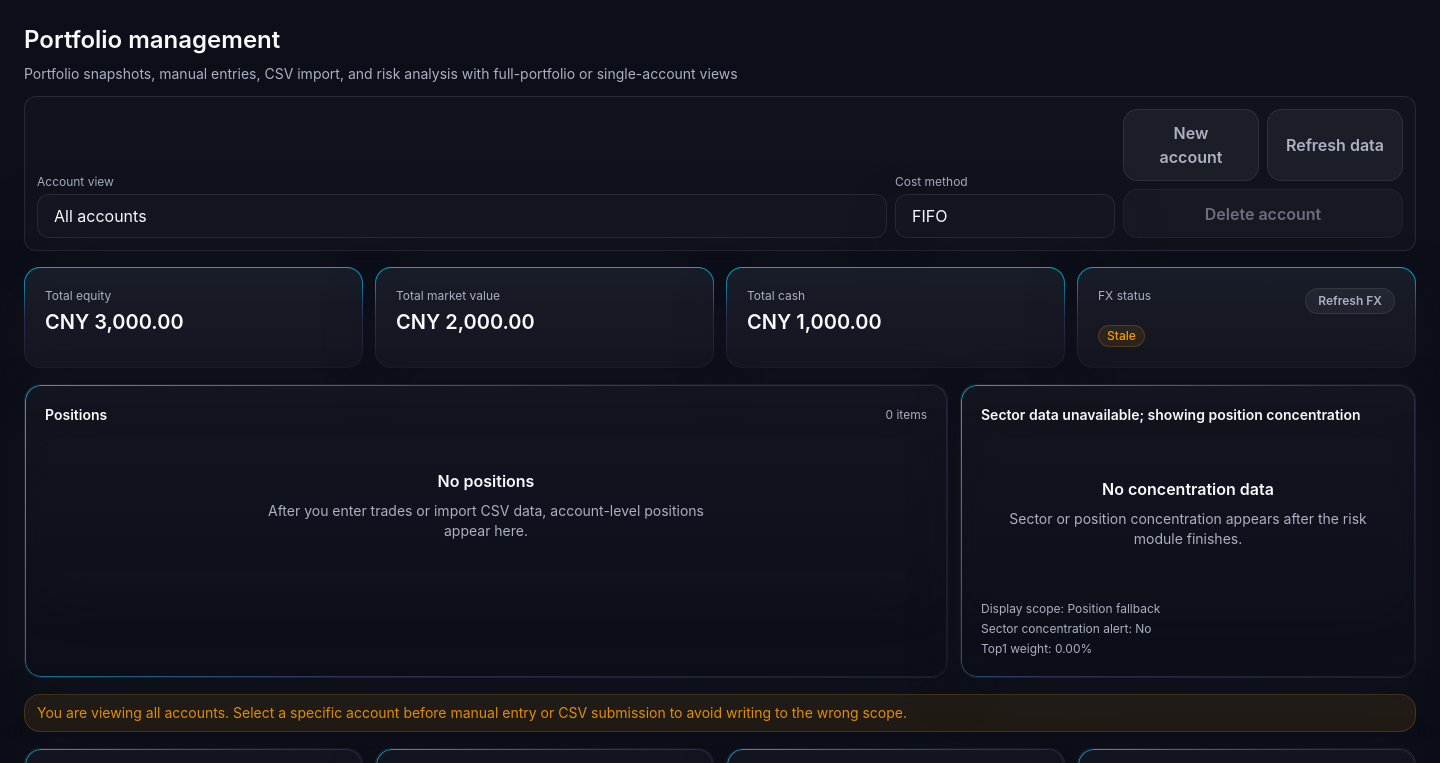
Test: PortfolioPage FX refresh › refreshes FX for a single selected account and only reloads snapshot/risk
Select "Main (#1)" in the 1st dropdown at (462, 216), box [37, 194, 887, 238]
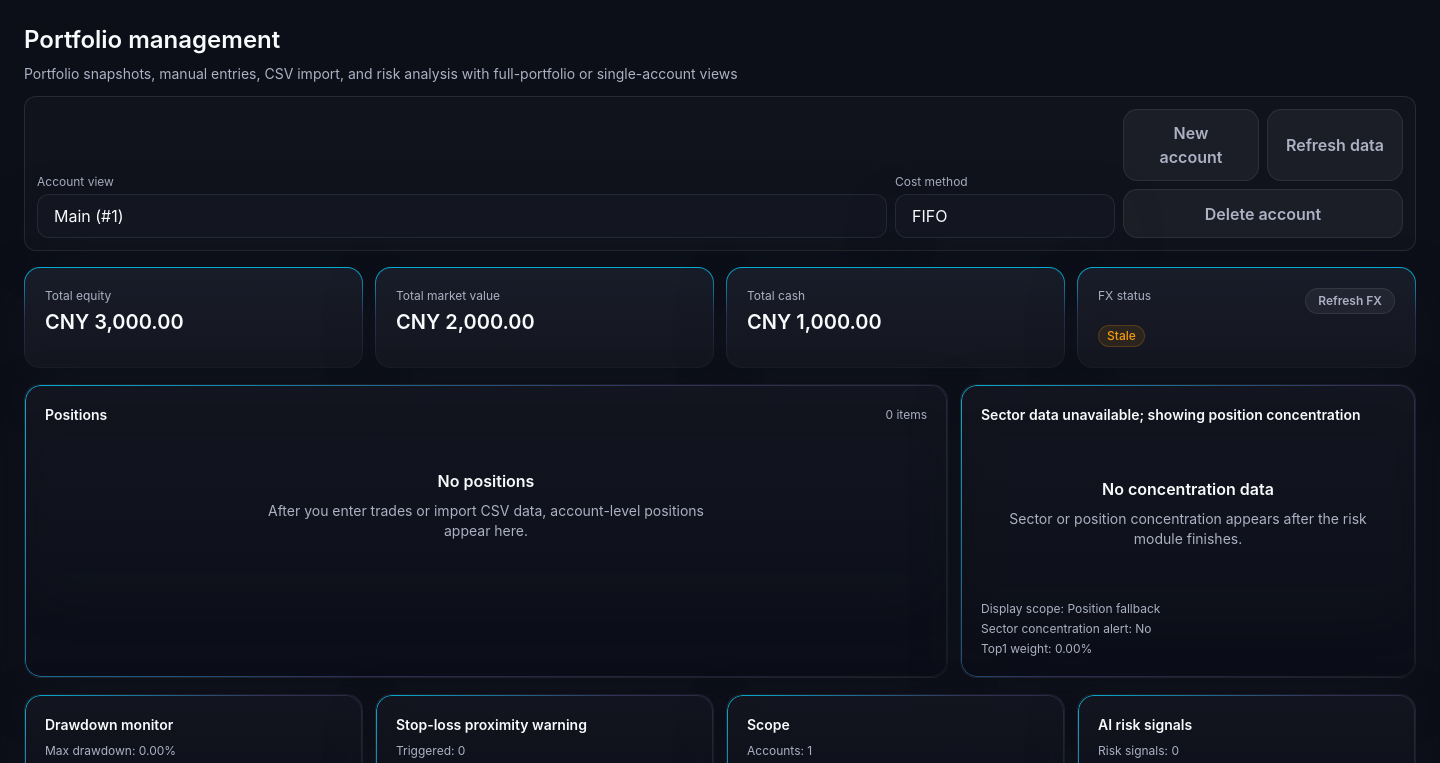
Click the button "Refresh FX" at (1350, 301), box [1305, 288, 1395, 314]
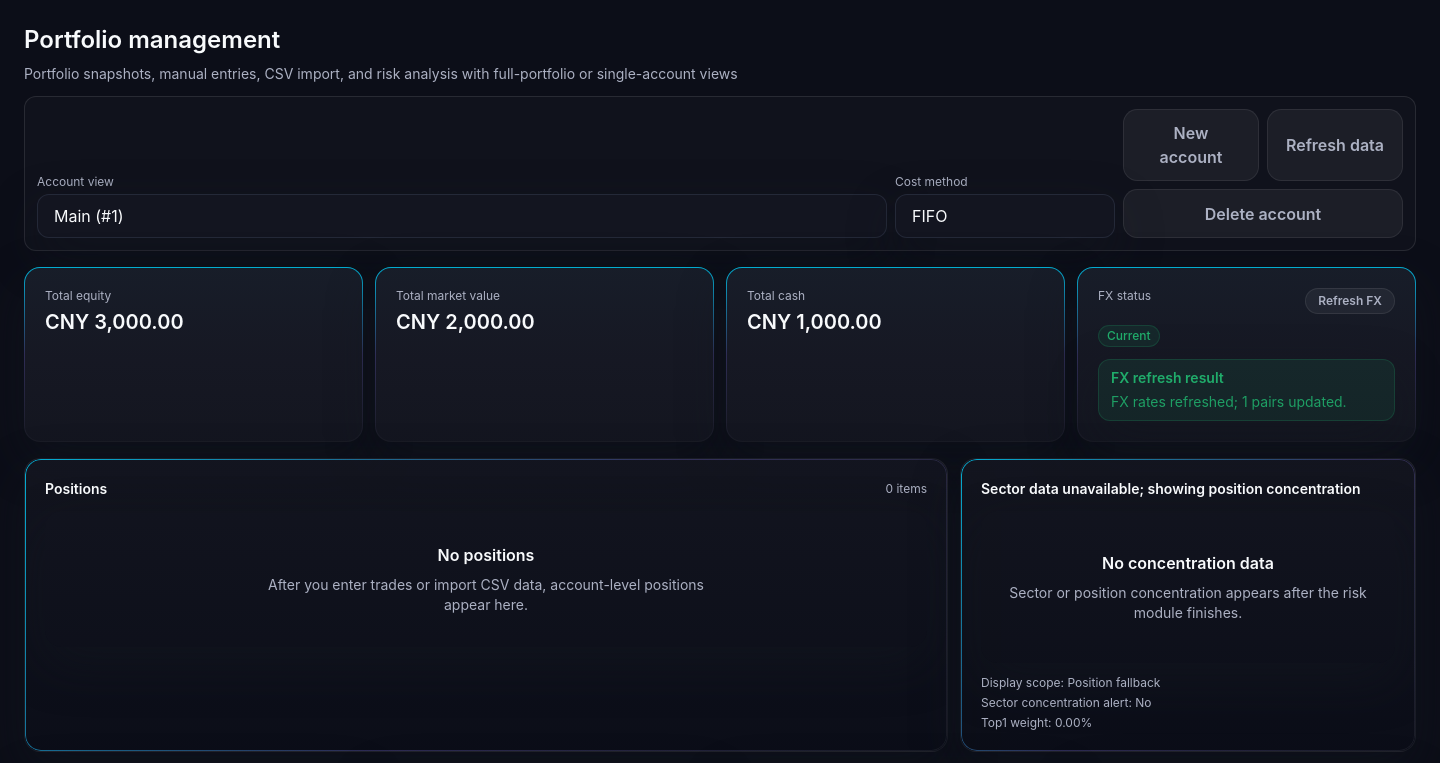
Expected: the text "FX rates refreshed; 1 pairs updated." is shown, [1111, 392, 1347, 412]
Expected: the text "Current" is shown, [1098, 325, 1160, 347]
